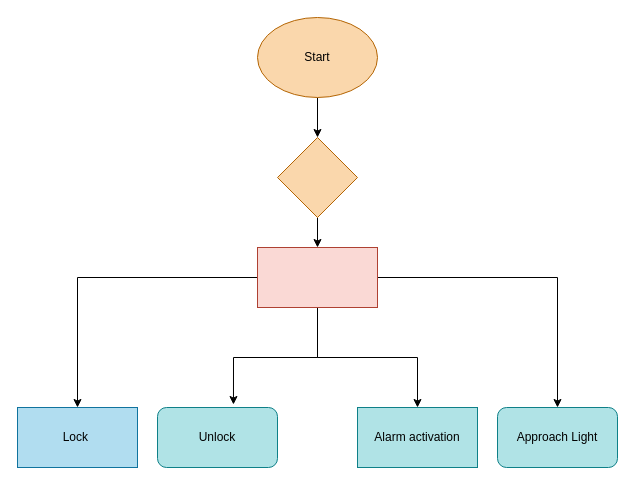
Image size: 635x485. Some labels were removed from this diagram. Here are the shapes that lost their labels. From the top down, the centre of each, then its label:
At point (317, 177): "User".
At point (317, 277): "KEY".
